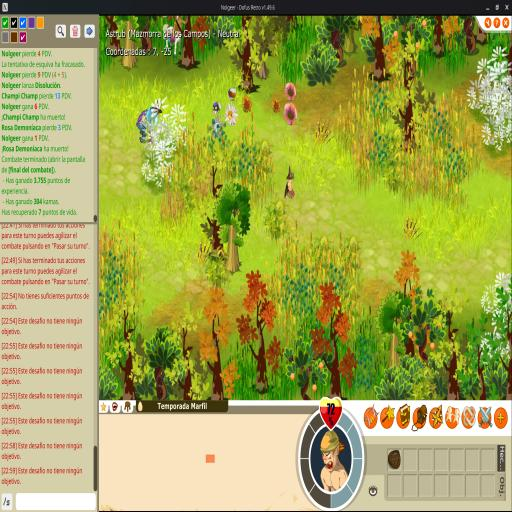Enemigos: (224, 103, 239, 128), (283, 102, 298, 126), (211, 116, 224, 139), (284, 82, 297, 102), (241, 94, 253, 114), (271, 96, 282, 114), (212, 101, 222, 117), (228, 88, 236, 103)
Personaje: (284, 164, 295, 200)
